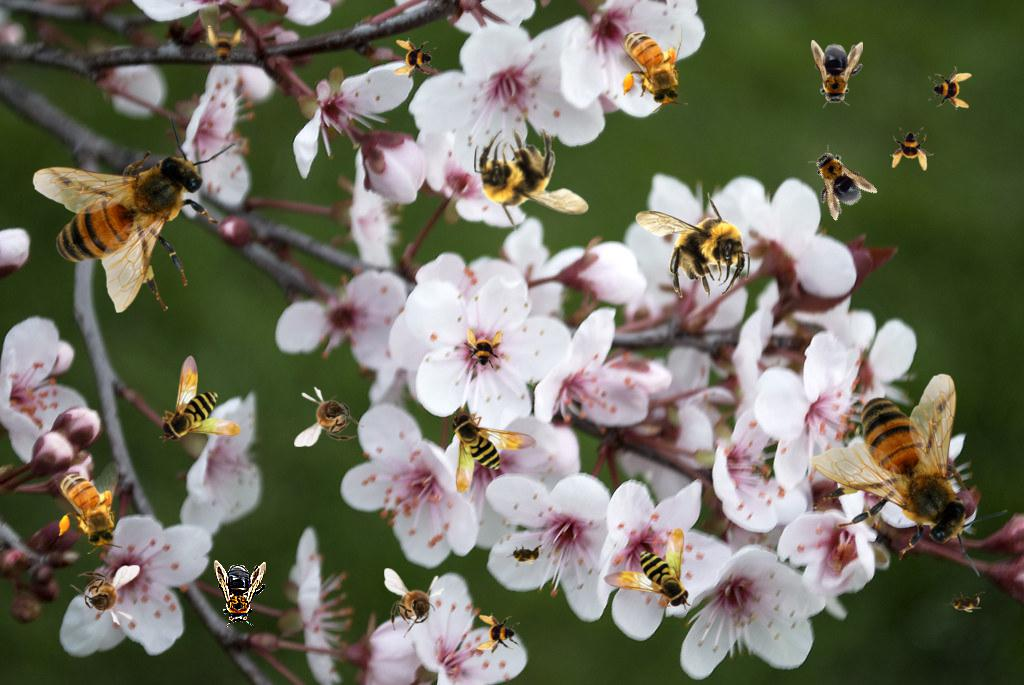Bee: (810, 373, 1009, 577), (32, 114, 236, 313), (474, 126, 589, 233), (635, 192, 750, 299), (795, 137, 879, 223), (449, 411, 537, 493), (603, 528, 691, 610), (159, 355, 241, 443), (618, 18, 688, 113), (55, 461, 123, 554), (384, 568, 445, 638), (294, 386, 364, 447), (70, 565, 140, 626), (214, 560, 266, 628), (811, 40, 863, 108), (200, 25, 244, 69), (928, 66, 972, 110), (460, 327, 504, 371), (393, 38, 437, 82), (890, 127, 934, 171), (476, 613, 520, 657), (945, 591, 985, 613), (506, 543, 546, 565)
